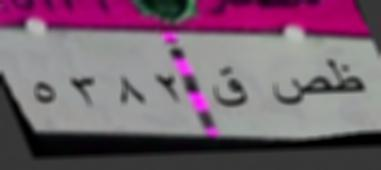2: (156, 70, 182, 109)
3: (66, 70, 100, 112)
5: (29, 74, 58, 109)
8: (117, 69, 146, 109)
Thaa: (325, 56, 366, 93)
qaaf: (211, 62, 247, 118)
saad: (263, 69, 327, 107)
